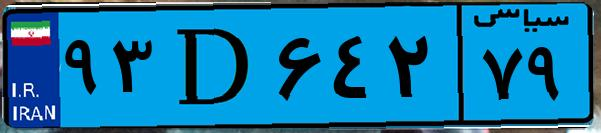2: (385, 28, 445, 110)
3: (110, 28, 158, 98)
4: (330, 28, 385, 110)
6: (270, 28, 330, 110)
7: (475, 38, 525, 113)
9: (57, 26, 110, 100), (525, 38, 570, 115)
D: (158, 12, 270, 120)
